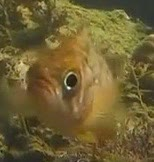smallfish: (26, 31, 143, 139)
